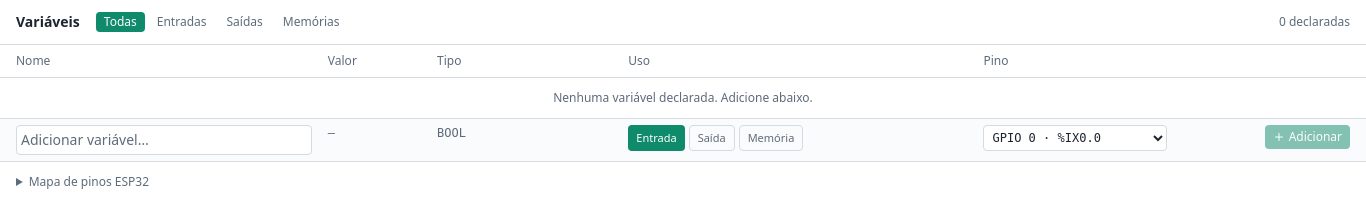
Test: PainelVariaveis — bloqueio durante a simulação (revisão 2026-09-23, simetria com o contrato de E/S do ambiente) › sem `simulacaoAtiva`, criar continua funcionando (comportamento de sempre)
Type "x" into the field named "Nome da nova variável". click: (164,140)
box: [16, 125, 312, 155]
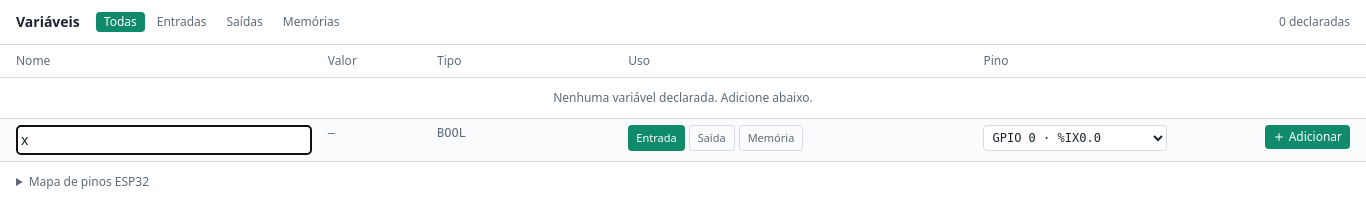
Click the button "Adicionar". click: (1307,137)
box: [1265, 125, 1350, 149]
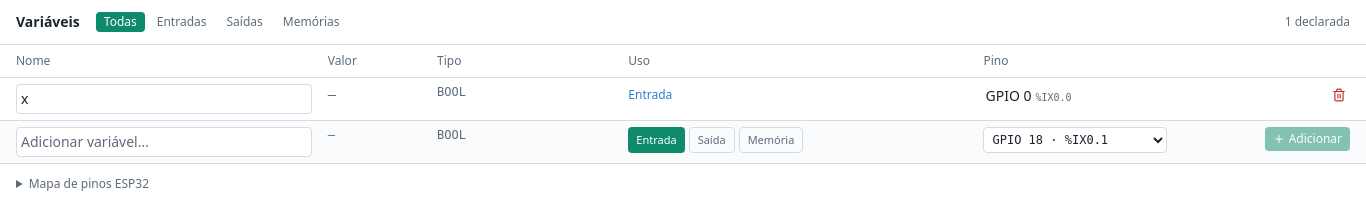
Now the field named "Nome da variável x" is shown, box [16, 84, 312, 114]
